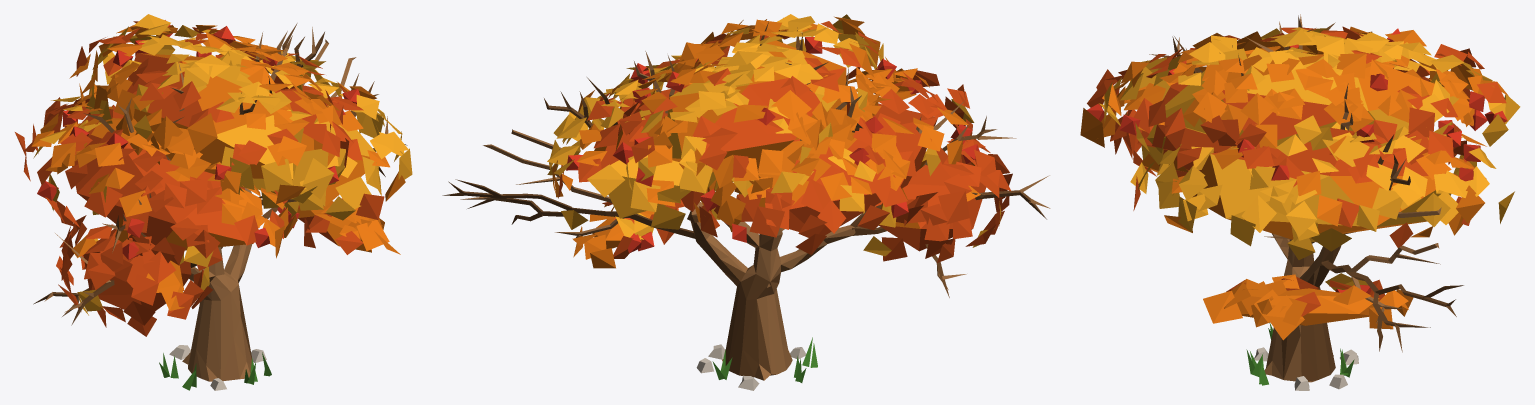
The model's file is apple_autumn.glb.
The picture shows the model from 3 angles, left to right: view 1: azimuth 30°, elevation 25°; view 2: azimuth 150°, elevation 25°; view 3: azimuth 270°, elevation 25°; orthographic projection. The views are drawn at different scales.
Visible parts, largest first — view 1: apple_autumn; view 2: apple_autumn; view 3: apple_autumn.
Part boxes in pixels (left/top/right/bottom): apple_autumn: left=15, top=14, right=412, bottom=390; apple_autumn: left=442, top=14, right=1050, bottom=390; apple_autumn: left=1080, top=14, right=1520, bottom=390.
Bounding box in the file's own units: 8.88 × 5.82 × 7.06.
